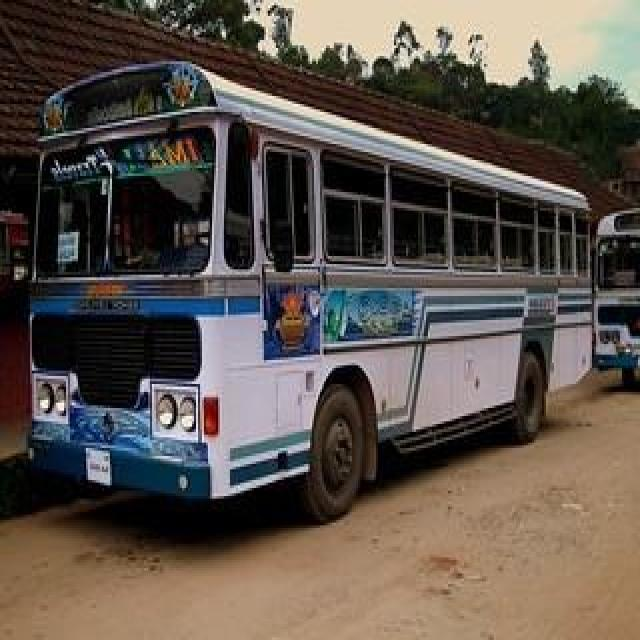Bus: (29, 194, 578, 405), (600, 221, 640, 368)
